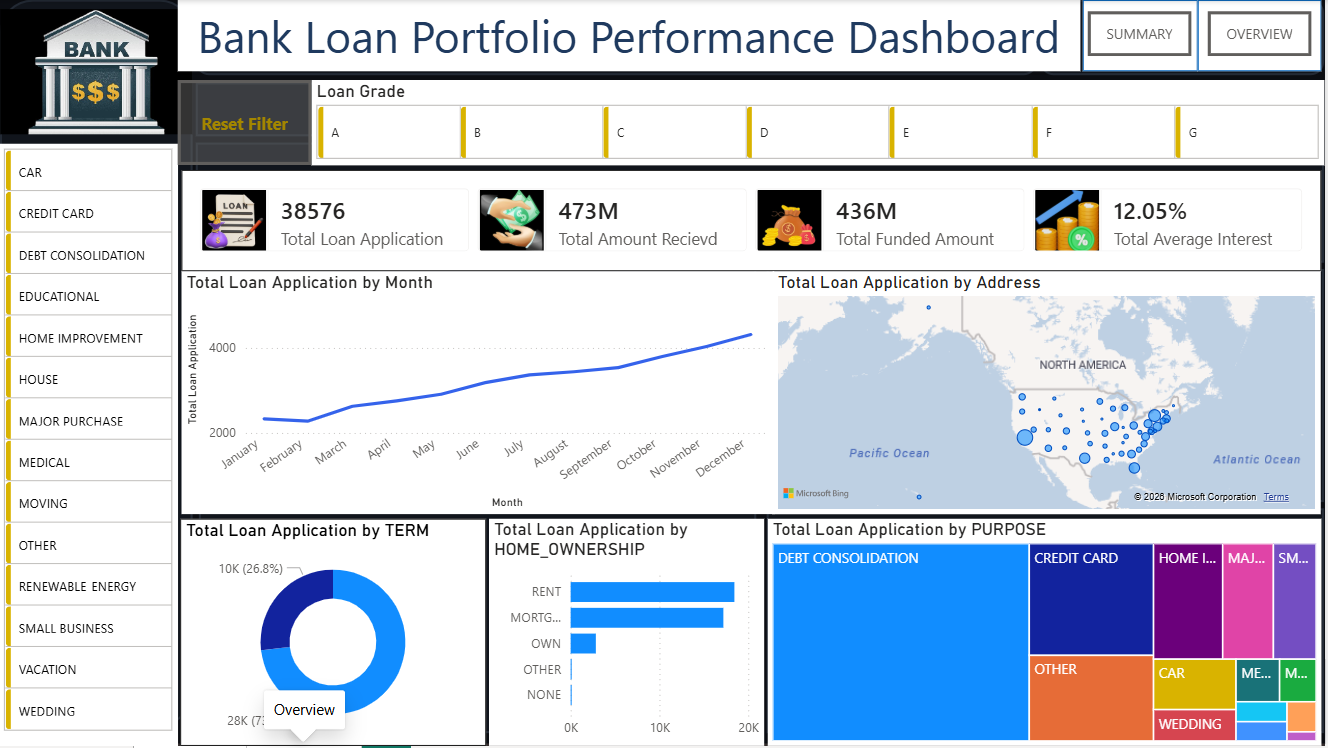

The page's visual inventory and layout, read from the dashboard file:
{"tool":"powerbi","page":{"name":"Overview","canvas":[1280,720],"ordinal":1},"visuals":[{"type":"cardVisual","fields":{"Data":["Measure_Table.Total Application","Measure_Table.Total Amount Recievd","Measure_Table.Total Funded Amt","Measure_Table.Total Avg Interest"]},"box":[176.1,164.1,1100.3,97.7],"z":0},{"type":"image","box":[1.2,0,185.8,138.7],"z":1000},{"type":"advancedSlicerVisual","fields":{"Values":["financial_loan.PURPOSE"]},"box":[0,138.7,172.5,581.5],"z":2000},{"type":"advancedSlicerVisual","title":"Loan Grade","fields":{"Values":["financial_loan.GRADE"]},"box":[301.6,77.2,977.2,82],"z":3000},{"type":"actionButton","box":[172.5,77.2,129.1,82],"z":4000},{"type":"textbox","box":[172.5,0,871.1,68.8],"z":5000},{"type":"pageNavigator","box":[879.5,138.7,400.5,49.5],"z":6000},{"type":"shape","box":[1046,0,111,68.8],"z":7000},{"type":"shape","box":[1157,0,119.4,68.8],"z":8000},{"type":"actionButton","box":[1050.8,10.9,100.1,43.4],"z":9000},{"type":"actionButton","box":[1166.6,10.9,100.1,43.4],"z":10000},{"type":"lineChart","fields":{"Category":["financial_loan.ISSUE_DATE.Variation.Date Hierarchy.Month"],"Y":["Measure_Table.Total Loan Application"]},"box":[176.1,261.8,571.9,234],"z":11000},{"type":"treemap","fields":{"Group":["financial_loan.PURPOSE"],"Values":["Measure_Table.Total Loan Application"]},"box":[742,500.7,534.5,219.6],"z":12000},{"type":"donutChart","fields":{"Y":["Measure_Table.Total Loan Application"],"Category":["financial_loan.TERM"]},"box":[174.9,500.7,295.6,219.6],"z":13000},{"type":"clusteredBarChart","fields":{"Category":["financial_loan.HOME_OWNERSHIP"],"Y":["Measure_Table.Total Loan Application"]},"box":[472.9,500.4,265.4,219.6],"z":14000},{"type":"map","title":"Total Loan Application by Address","fields":{"Category":["financial_loan.ADDRESS_STATE"],"Size":["Measure_Table.Total Loan Application"]},"box":[746.8,261.8,528.4,234],"z":15001}]}

Visuals, with their boxes in screenshot pixels (x1, y1, x2, y2), scaled from the page's 1280x720 canvas onto the 1328x748 screenshot:
cardVisual - Measure_Table.Total Application x Measure_Table.Total Amount Recievd: <bbox>183, 170, 1324, 272</bbox>
image: <bbox>1, 0, 194, 144</bbox>
advancedSlicerVisual - financial_loan.PURPOSE: <bbox>0, 144, 179, 747</bbox>
"Loan Grade" advancedSlicerVisual: <bbox>313, 80, 1327, 165</bbox>
actionButton: <bbox>179, 80, 313, 165</bbox>
textbox: <bbox>179, 0, 1083, 71</bbox>
pageNavigator: <bbox>912, 144, 1327, 196</bbox>
shape: <bbox>1085, 0, 1200, 71</bbox>
shape: <bbox>1200, 0, 1324, 71</bbox>
actionButton: <bbox>1090, 11, 1194, 56</bbox>
actionButton: <bbox>1210, 11, 1314, 56</bbox>
lineChart - financial_loan.ISSUE_DATE.Variation.Date Hierarchy.Month x Measure_Table.Total Loan Application: <bbox>183, 272, 776, 515</bbox>
treemap - financial_loan.PURPOSE x Measure_Table.Total Loan Application: <bbox>770, 520, 1324, 747</bbox>
donutChart - Measure_Table.Total Loan Application x financial_loan.TERM: <bbox>181, 520, 488, 747</bbox>
clusteredBarChart - financial_loan.HOME_OWNERSHIP x Measure_Table.Total Loan Application: <bbox>491, 520, 766, 747</bbox>
"Total Loan Application by Address" map: <bbox>775, 272, 1323, 515</bbox>
